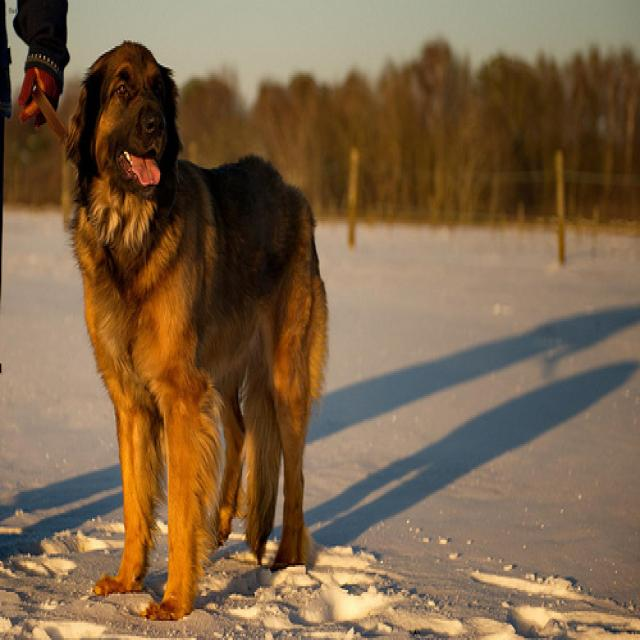dog-leonberger: (55, 27, 342, 634)
